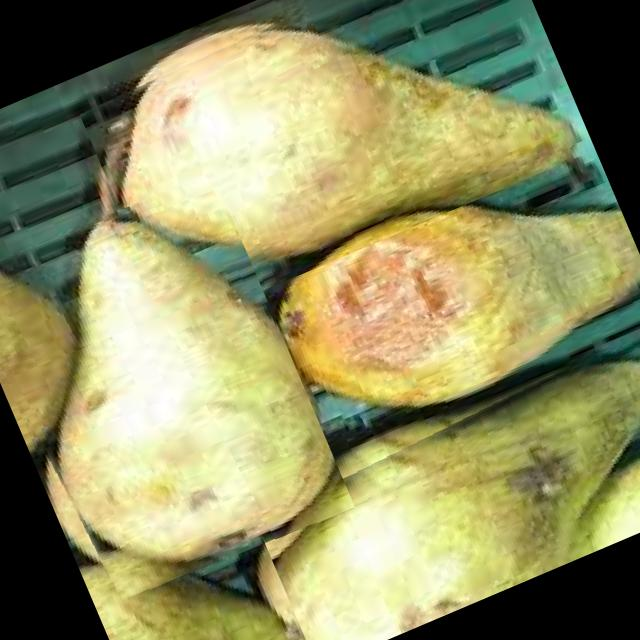Organic: (73, 0, 595, 329), (0, 170, 354, 616), (244, 317, 640, 640), (279, 155, 640, 440)
